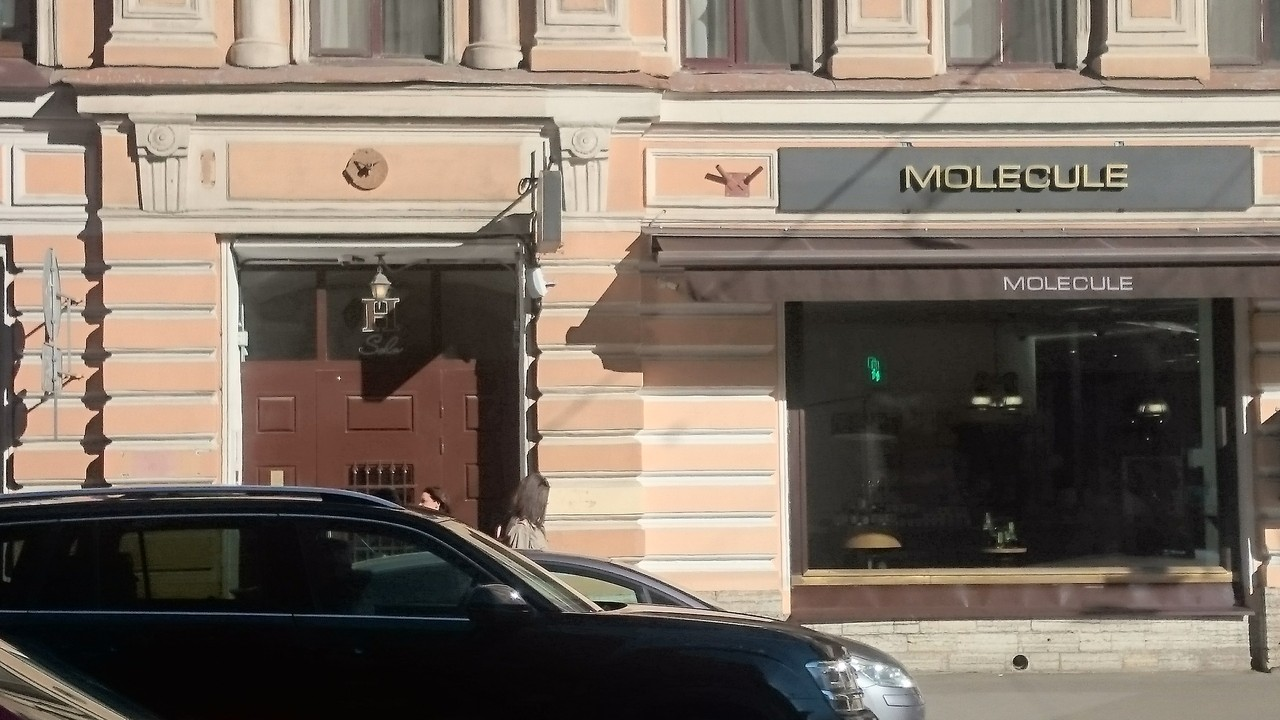signboard: (777, 147, 1258, 206)
window: (788, 302, 1232, 574)
